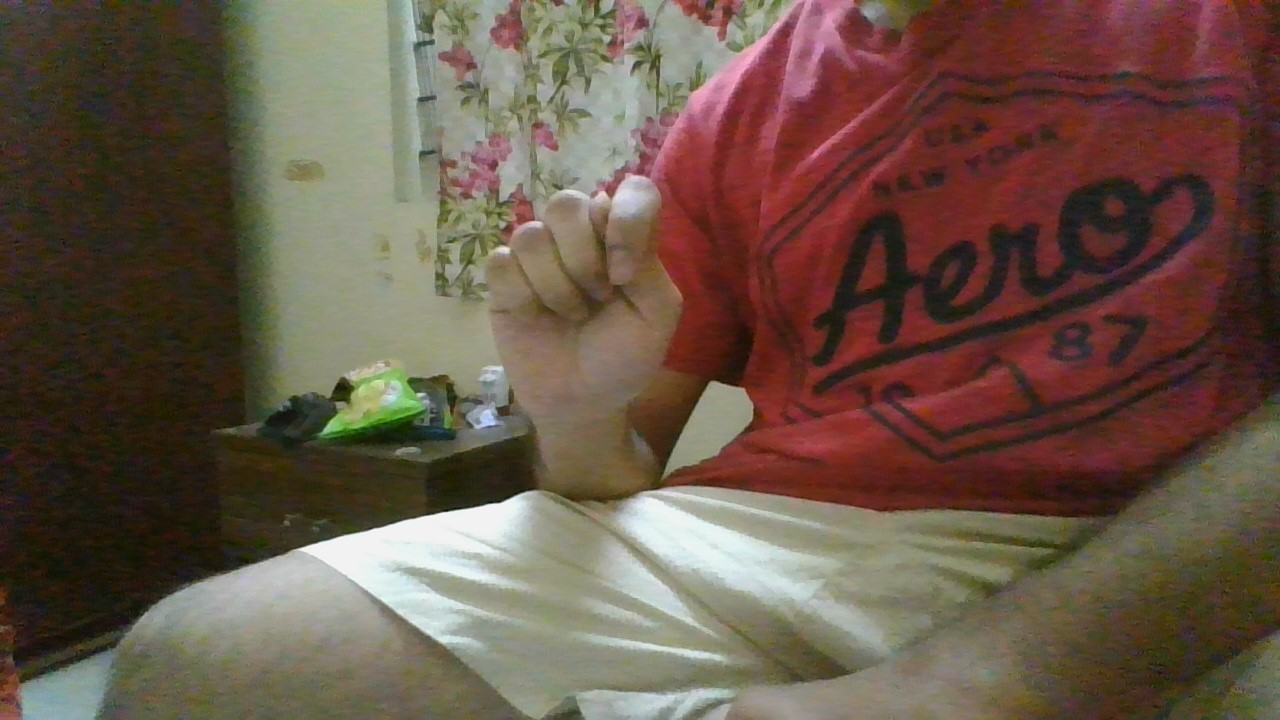t: (478, 169, 690, 424)
